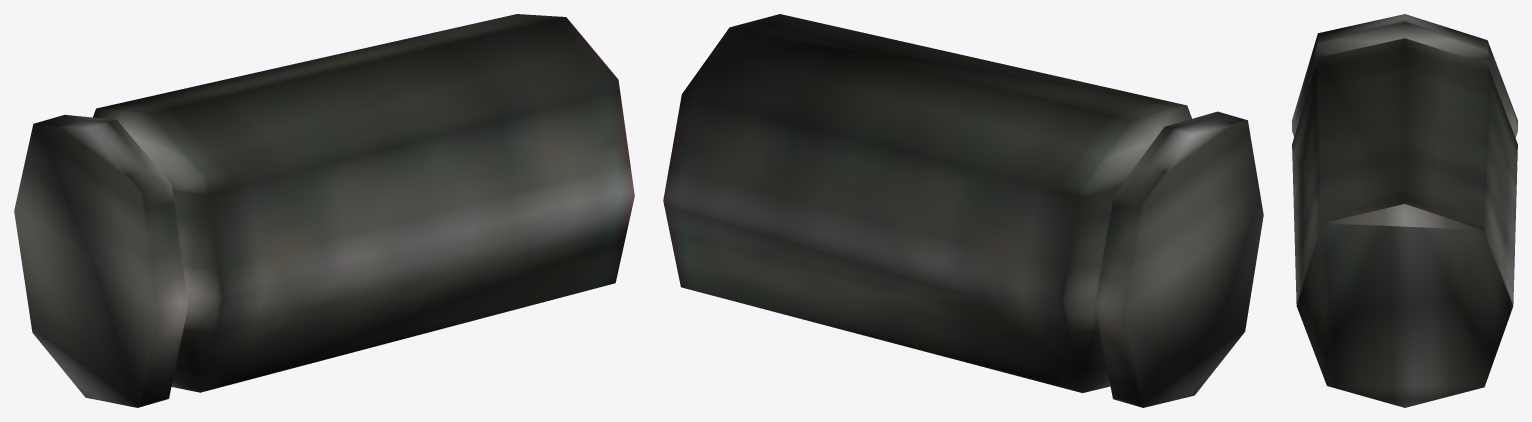
The model's file is empty shell.fbx.
3 views of the same model, side by side, from view 1: azimuth 30°, elevation 25°; view 2: azimuth 150°, elevation 25°; view 3: azimuth 270°, elevation 25° (orthographic). The views are drawn at different scales.
Visible parts, largest first — view 1: BulletEmpty.002; view 2: BulletEmpty.002; view 3: BulletEmpty.002.
Part boxes in pixels (x1,y1,x2,y2): BulletEmpty.002: (14,14,634,407); BulletEmpty.002: (663,14,1263,407); BulletEmpty.002: (1292,14,1517,407).
Bounding box in the file's own units: 9.57 × 5.14 × 4.92.
1 material, 1 textured.
